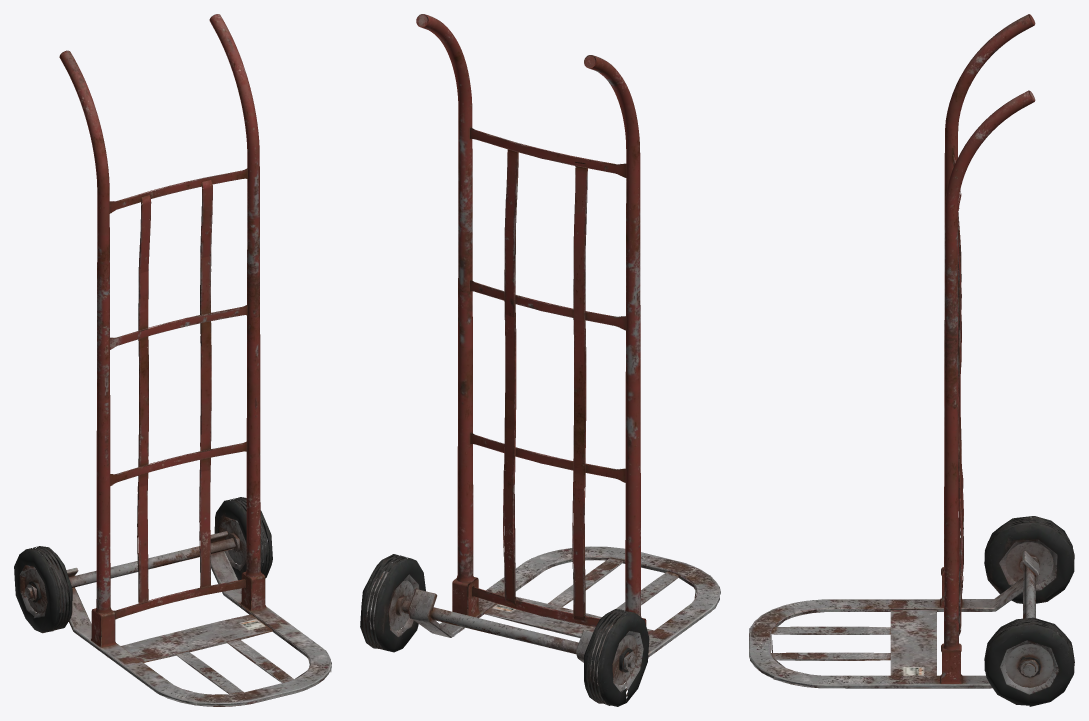
Rendered from ph_hand_truck.glb.
3 renders of one model, left to right at view 1: azimuth 30°, elevation 25°; view 2: azimuth 150°, elevation 25°; view 3: azimuth 270°, elevation 25°, orthographic. The views are drawn at different scales.
Visible parts, largest first — view 1: hand_truck; view 2: hand_truck; view 3: hand_truck.
Part boxes in pixels (x1,y1,x2,y2): hand_truck: [14, 14, 331, 706]; hand_truck: [360, 14, 720, 706]; hand_truck: [749, 14, 1074, 706].
Size of the model in its own units: 0.5933 by 1.4 by 0.6931.
1 material, 1 textured.
